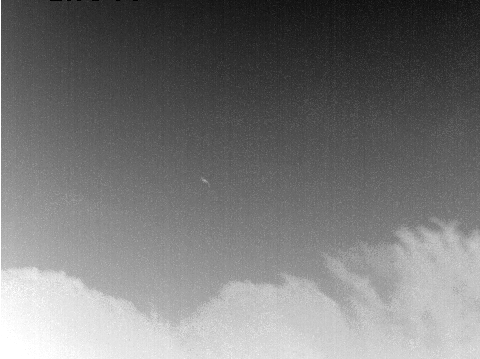dim target: (200, 177, 209, 184)
